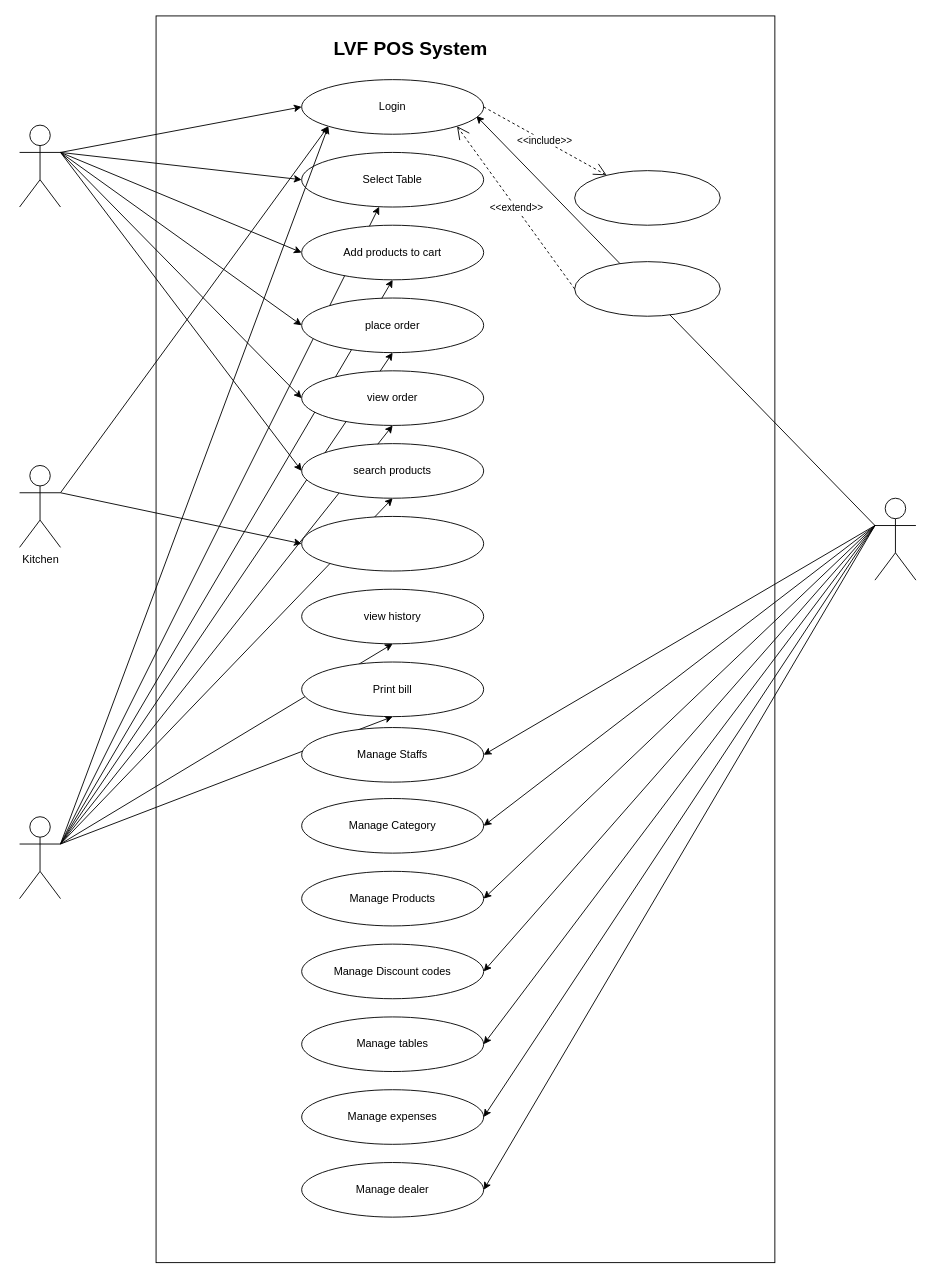
This 932x1279 diagram has some shape labels left out. Here are the shapes that lost their labels. From the top down, the centre of each, then its label:
[40,165]: Waiter
[647,197]: Match credentials
[647,288]: Show error message
[392,543]: Manage orders
[895,538]: Admin
[40,857]: Reception
